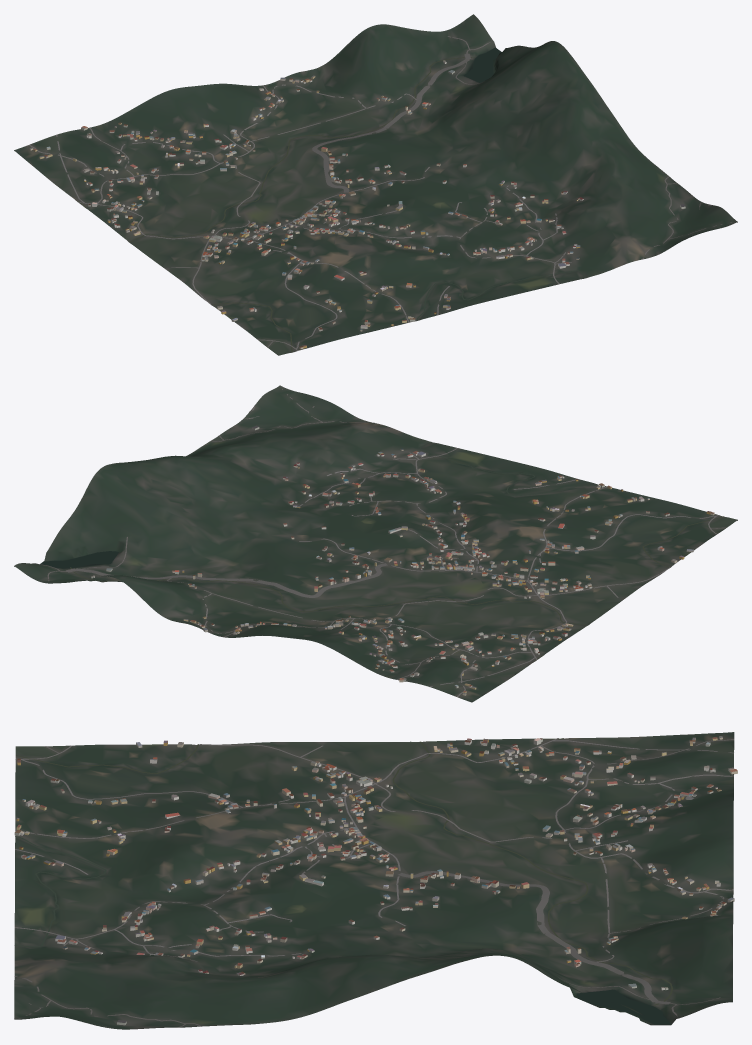
3 renders of one model, top to bottom at view 1: azimuth 30°, elevation 25°; view 2: azimuth 150°, elevation 25°; view 3: azimuth 270°, elevation 25°, orthographic. The views are drawn at different scales.
Parts seen in each view (by area): view 1: ground, buildings, roads, water; view 2: ground, buildings, roads, water; view 3: ground, buildings, roads, water.
Part boxes in pixels (bbox=[...]): ground: bbox=[14, 14, 737, 355]; buildings: bbox=[29, 60, 685, 349]; roads: bbox=[29, 36, 733, 350]; water: bbox=[77, 47, 586, 352]; ground: bbox=[14, 385, 737, 702]; buildings: bbox=[91, 425, 714, 695]; roads: bbox=[33, 387, 726, 697]; water: bbox=[40, 441, 724, 661]; ground: bbox=[14, 732, 734, 1029]; buildings: bbox=[14, 736, 737, 1025]; roads: bbox=[14, 738, 734, 1028]; water: bbox=[14, 738, 672, 1024].
Size of the model in its own units: 1407 by 207 by 1412.
